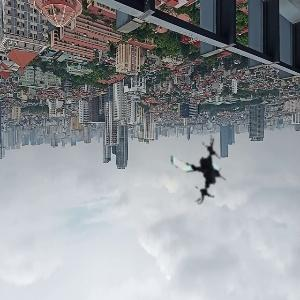drone: (162, 129, 237, 204)
